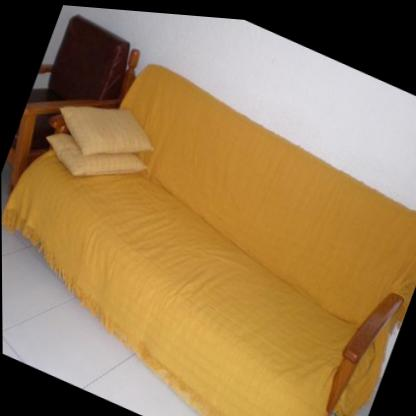Chair: (0, 1, 147, 226)
Sofa: (0, 20, 416, 416)
